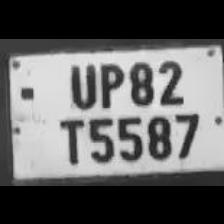2: (154, 56, 186, 104)
5: (85, 112, 116, 164), (115, 109, 143, 161)
7: (172, 106, 200, 160)
8: (144, 109, 172, 161), (125, 56, 153, 106)
P: (94, 57, 124, 109)
T: (52, 112, 86, 164)
U: (64, 58, 98, 108)
